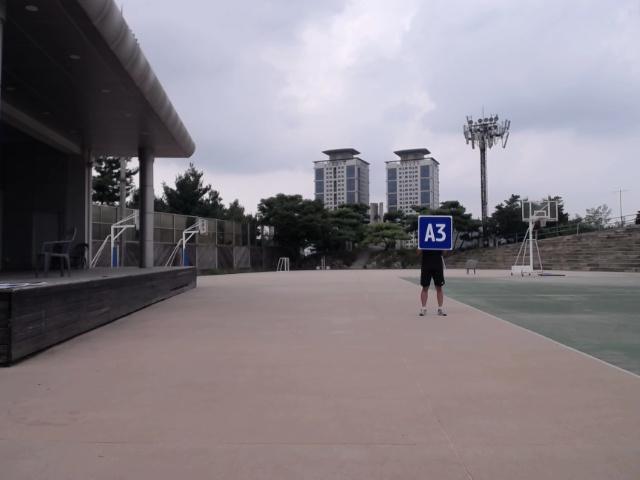delivery_a3: (418, 215, 452, 250)
